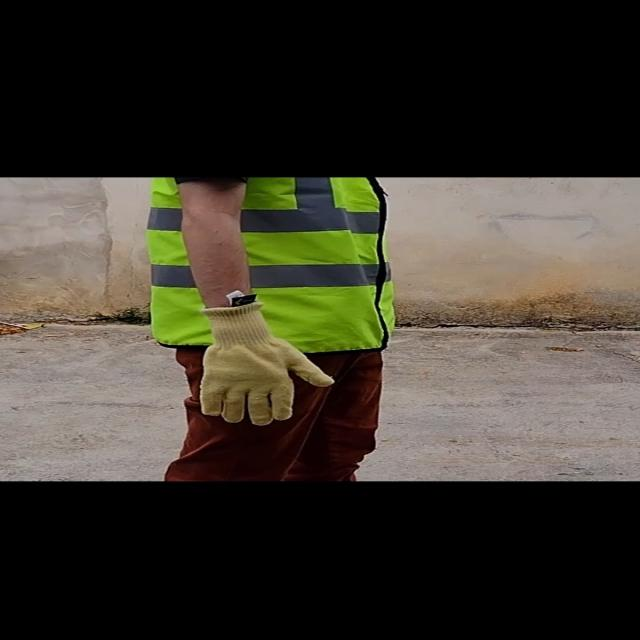glove: (191, 293, 350, 427)
pants: (146, 348, 408, 480)
vest: (150, 178, 388, 350)
